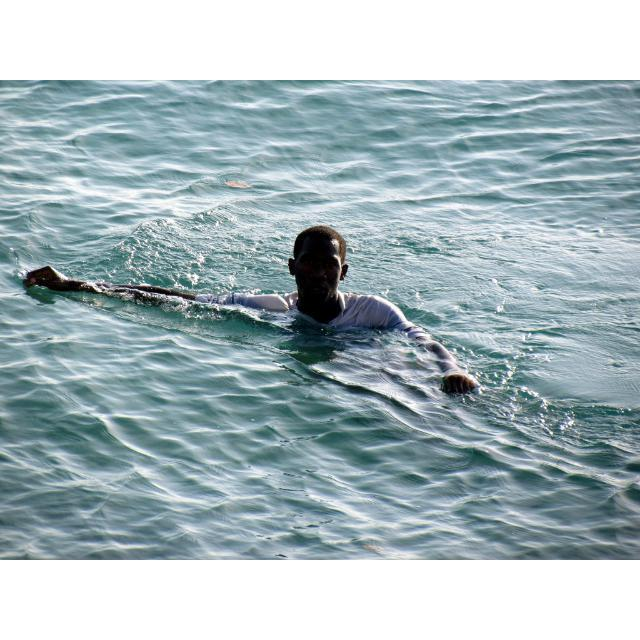human: (24, 222, 477, 400)
